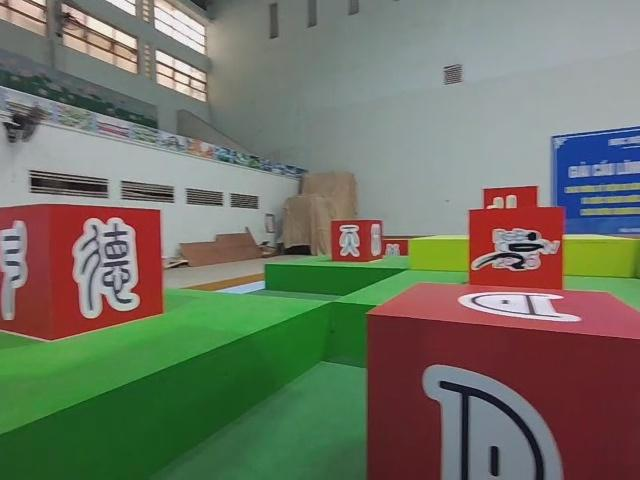R1: (466, 205, 566, 292)
R2 Fake: (0, 201, 167, 343), (328, 217, 386, 263)
R2 Real: (364, 279, 640, 480)
